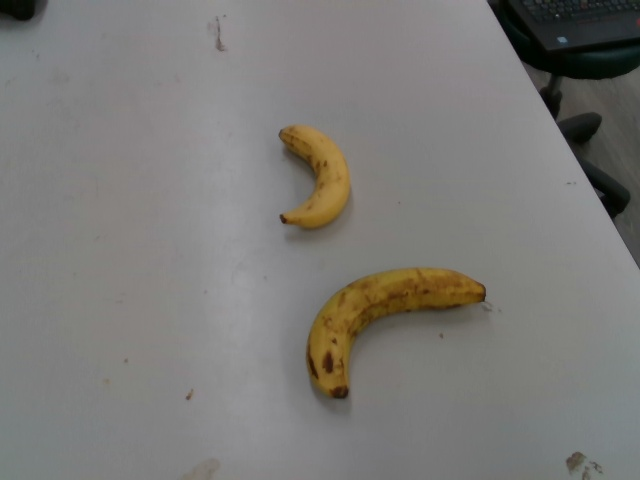banana: (304, 266, 487, 402), (273, 124, 351, 229)
